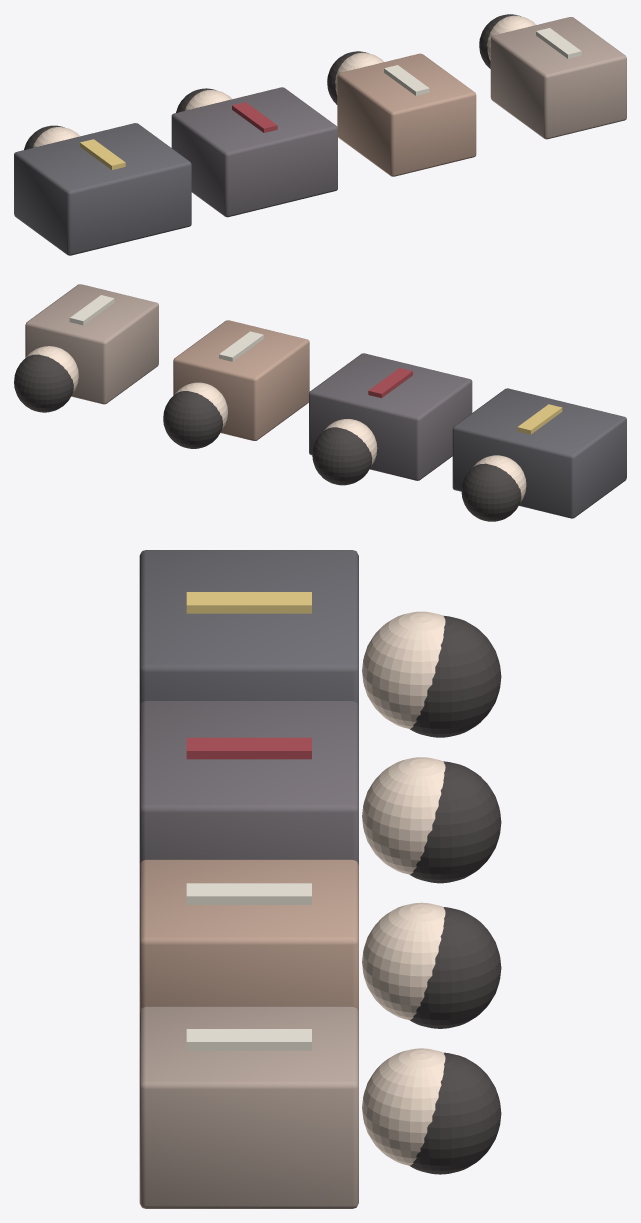
File: busts.glb
3 renders of one model, top to bottom at view 1: azimuth 30°, elevation 25°; view 2: azimuth 150°, elevation 25°; view 3: azimuth 270°, elevation 25°, orthographic. The views are drawn at different scales.
Parts seen in each view (by area): view 1: Bust_Park_Torso, Bust_Choi_Torso, Bust_Sora_Torso, Bust_Hana_Torso, Bust_Choi_Trim, Bust_Sora_Trim, Bust_Hana_Trim, Bust_Park_Trim, Bust_Hana_Head, Bust_Sora_Head, Bust_Choi_Head, Bust_Park_Head (+2 smaller); view 2: Bust_Park_Torso, Bust_Choi_Torso, Bust_Sora_Torso, Bust_Hana_Torso, Bust_Sora_Hair, Bust_Choi_Hair, Bust_Park_Hair, Bust_Hana_Hair, Bust_Hana_Head, Bust_Sora_Head, Bust_Park_Head, Bust_Choi_Head (+4 smaller); view 3: Bust_Hana_Torso, Bust_Choi_Torso, Bust_Park_Torso, Bust_Sora_Torso, Bust_Park_Head, Bust_Choi_Head, Bust_Hana_Head, Bust_Sora_Head, Bust_Hana_Hair, Bust_Choi_Hair, Bust_Park_Hair, Bust_Sora_Hair (+4 smaller).
Boxes of the visible parts, x1=… form: Bust_Park_Torso: x1=14, y1=123, x2=191, y2=255; Bust_Choi_Torso: x1=171, y1=87, x2=337, y2=217; Bust_Sora_Torso: x1=337, y1=53, x2=476, y2=176; Bust_Hana_Torso: x1=490, y1=17, x2=626, y2=139; Bust_Choi_Trim: x1=232, y1=102, x2=277, y2=132; Bust_Sora_Trim: x1=384, y1=65, x2=429, y2=95; Bust_Hana_Trim: x1=536, y1=28, x2=581, y2=58; Bust_Park_Trim: x1=80, y1=139, x2=125, y2=169; Bust_Hana_Head: x1=487, y1=15, x2=535, y2=60; Bust_Sora_Head: x1=335, y1=52, x2=384, y2=94; Bust_Choi_Head: x1=185, y1=90, x2=232, y2=110; Bust_Park_Head: x1=33, y1=127, x2=79, y2=147; Bust_Park_Torso: x1=452, y1=388, x2=626, y2=518; Bust_Choi_Torso: x1=309, y1=353, x2=472, y2=480; Bust_Sora_Torso: x1=173, y1=320, x2=309, y2=440; Bust_Hana_Torso: x1=25, y1=284, x2=158, y2=404; Bust_Sora_Hair: x1=163, y1=391, x2=222, y2=448; Bust_Choi_Hair: x1=312, y1=427, x2=372, y2=485; Bust_Park_Hair: x1=461, y1=463, x2=521, y2=521; Bust_Hana_Hair: x1=14, y1=354, x2=73, y2=412; Bust_Hana_Head: x1=25, y1=346, x2=78, y2=393; Bust_Sora_Head: x1=175, y1=382, x2=227, y2=430; Bust_Park_Head: x1=473, y1=455, x2=526, y2=502; Bust_Choi_Head: x1=324, y1=419, x2=377, y2=466; Bust_Hana_Torso: x1=139, y1=1006, x2=358, y2=1208; Bust_Choi_Torso: x1=139, y1=701, x2=358, y2=865; Bust_Park_Torso: x1=139, y1=550, x2=358, y2=706; Bust_Sora_Torso: x1=139, y1=859, x2=358, y2=1012; Bust_Park_Head: x1=362, y1=611, x2=445, y2=728; Bust_Choi_Head: x1=362, y1=757, x2=445, y2=874; Bust_Hana_Head: x1=362, y1=1048, x2=445, y2=1165; Bust_Sora_Head: x1=362, y1=902, x2=445, y2=1020; Bust_Hana_Hair: x1=410, y1=1052, x2=501, y2=1174; Bust_Choi_Hair: x1=410, y1=761, x2=501, y2=883; Bust_Park_Hair: x1=410, y1=615, x2=501, y2=737; Bust_Sora_Hair: x1=410, y1=907, x2=501, y2=1028.
Bounding box in the file's own units: 4.05 × 0.48 × 1.15.
